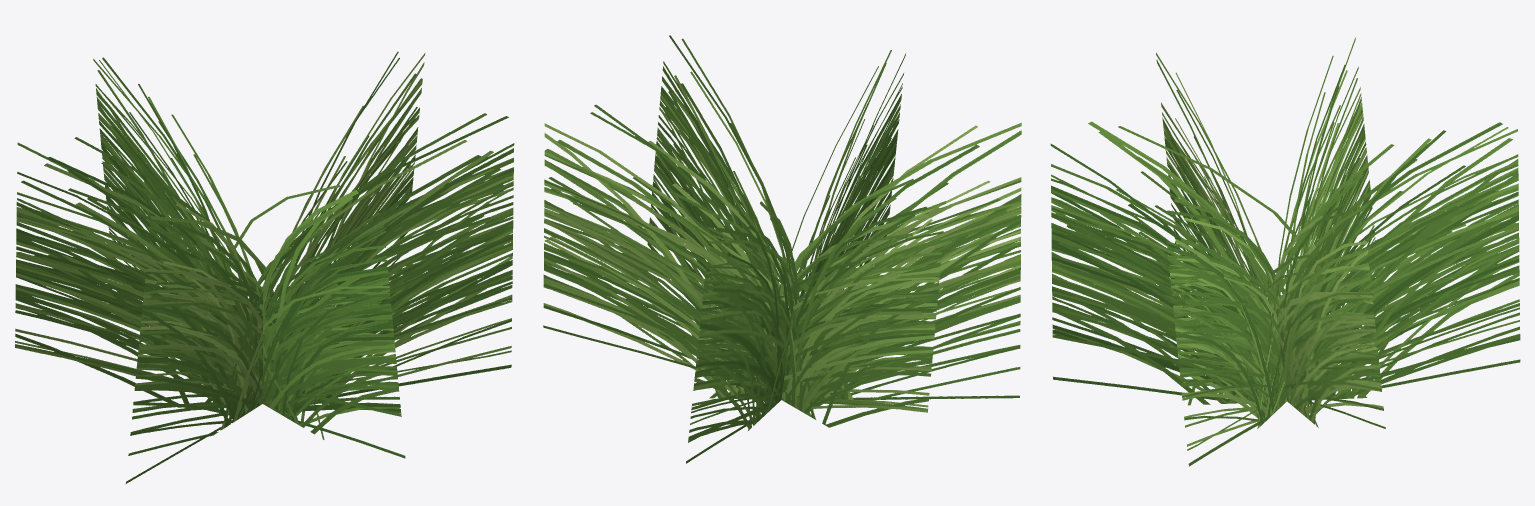
Rendered from grass_tuft.glb.
3 views of the same model, side by side, from view 1: azimuth 30°, elevation 25°; view 2: azimuth 150°, elevation 25°; view 3: azimuth 270°, elevation 25° (orthographic). The views are drawn at different scales.
Visible parts, largest first — view 1: grass_tuft; view 2: grass_tuft; view 3: grass_tuft.
Part boxes in pixels (x1=…): grass_tuft: x1=15, y1=51, x2=514, y2=483; grass_tuft: x1=543, y1=35, x2=1021, y2=463; grass_tuft: x1=1050, y1=37, x2=1520, y2=466.
Size of the model in its own units: 0.308 by 0.2189 by 0.3206.
Materials: 1 (1 with a texture image).
